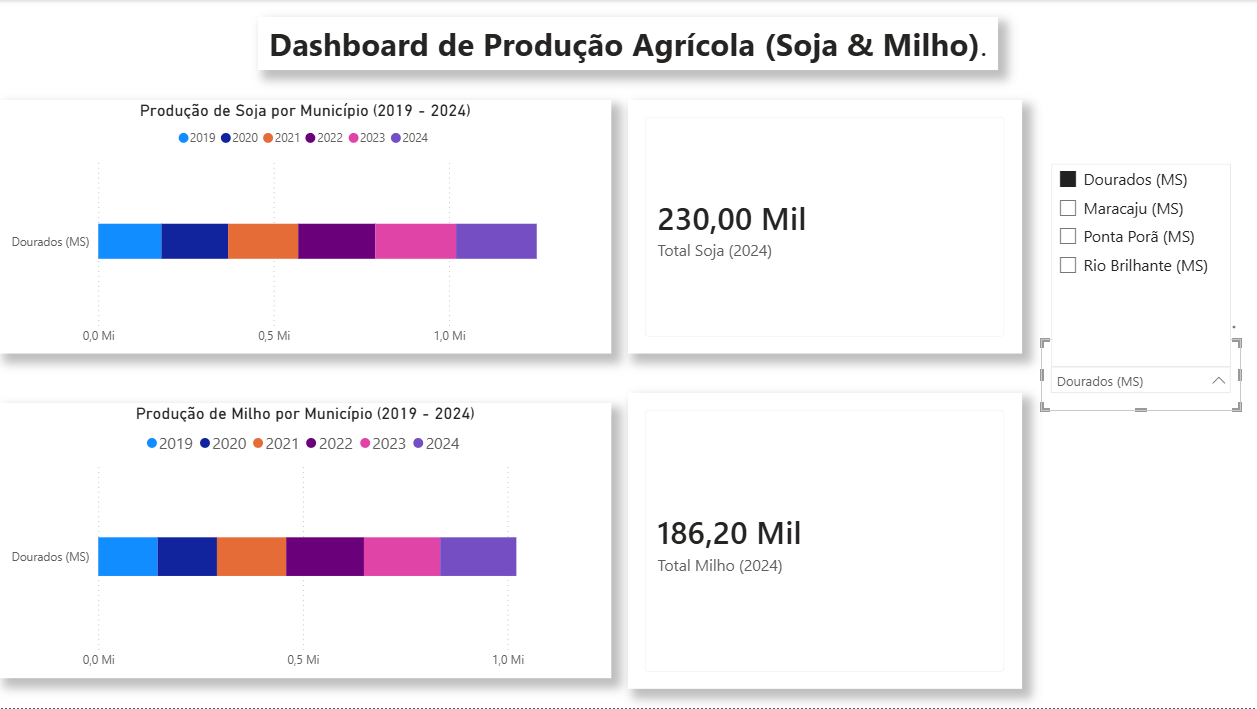

This screenshot's page, from the dashboard's own definition file:
{"tool":"powerbi","page":{"name":"Página 1","canvas":[1280,720],"ordinal":0},"visuals":[{"type":"barChart","title":"Produção de Soja por Município (2019 - 2024)","fields":{"Category":["public vw_producao_limpa.municipio"],"Y":["Sum(public vw_producao_limpa.soja_2019)","Sum(public vw_producao_limpa.soja_2020)","Sum(public vw_producao_limpa.soja_2021)","Sum(public vw_producao_limpa.soja_2022)","Sum(public vw_producao_limpa.soja_2023)","Sum(public vw_producao_limpa.soja_2024)"]},"box":[0,101.7,622.7,258.4],"z":0},{"type":"barChart","title":"Produção de Milho por Município (2019 - 2024)","fields":{"Category":["public vw_producao_limpa.municipio"],"Y":["Sum(public vw_producao_limpa.milho_2019)","Sum(public vw_producao_limpa.milho_2020)","Sum(public vw_producao_limpa.milho_2021)","Sum(public vw_producao_limpa.milho_2022)","Sum(public vw_producao_limpa.milho_2023)","Sum(public vw_producao_limpa.milho_2024)"]},"box":[0,410,622.7,279.8],"z":1},{"type":"slicer","fields":{"Values":["public vw_producao_limpa.municipio"]},"box":[1060.2,344.9,203.5,73.3],"z":2},{"type":"cardVisual","fields":{"Data":["Sum(public vw_producao_limpa.soja_2024)"]},"box":[640,101.7,400.9,258.4],"z":3},{"type":"cardVisual","fields":{"Data":["Sum(public vw_producao_limpa.milho_2024)"]},"box":[640,399.9,400.9,301.2],"z":4},{"type":"textbox","box":[263.5,17.3,752.9,53.9],"z":5}]}

Visuals, with their boxes in screenshot pixels (x1, y1, x2, y2), scaled from the page's 1280x720 canvas onto the 1257x709 screenshot:
"Produção de Soja por Município (2019 - 2024)" barChart: region(0, 100, 612, 355)
"Produção de Milho por Município (2019 - 2024)" barChart: region(0, 404, 612, 679)
slicer - public vw_producao_limpa.municipio: region(1041, 340, 1241, 412)
cardVisual - Sum(public vw_producao_limpa.soja_2024): region(628, 100, 1022, 355)
cardVisual - Sum(public vw_producao_limpa.milho_2024): region(628, 394, 1022, 690)
textbox: region(259, 17, 998, 70)
